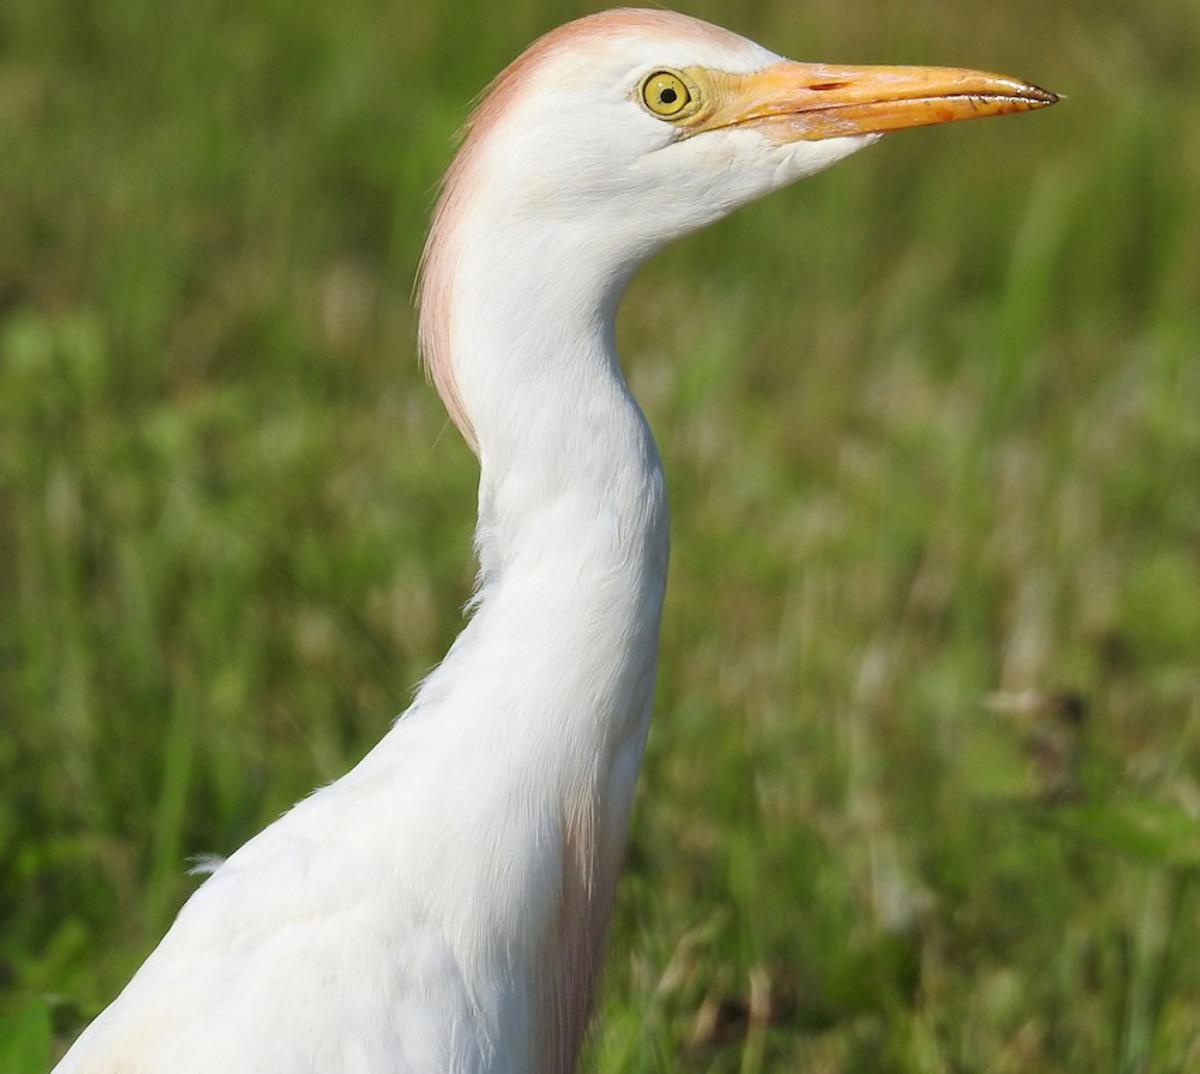egret: (69, 1, 1082, 1074)
